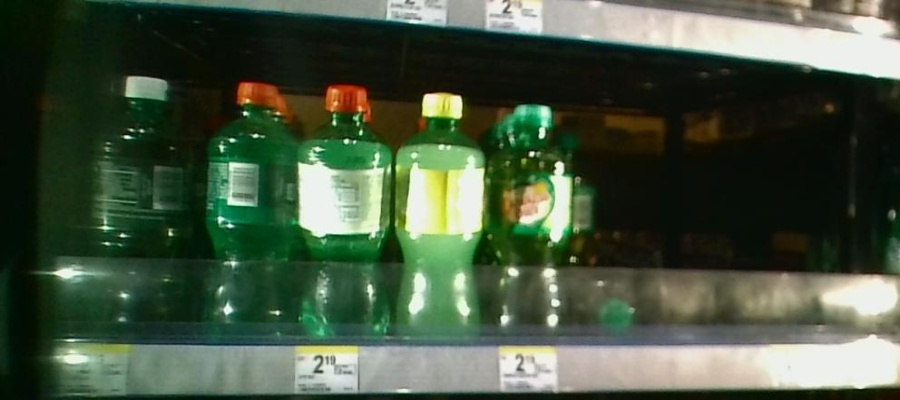bottle: (83, 52, 190, 339), (296, 70, 391, 343), (393, 70, 483, 344), (203, 72, 294, 340), (483, 78, 574, 339)
